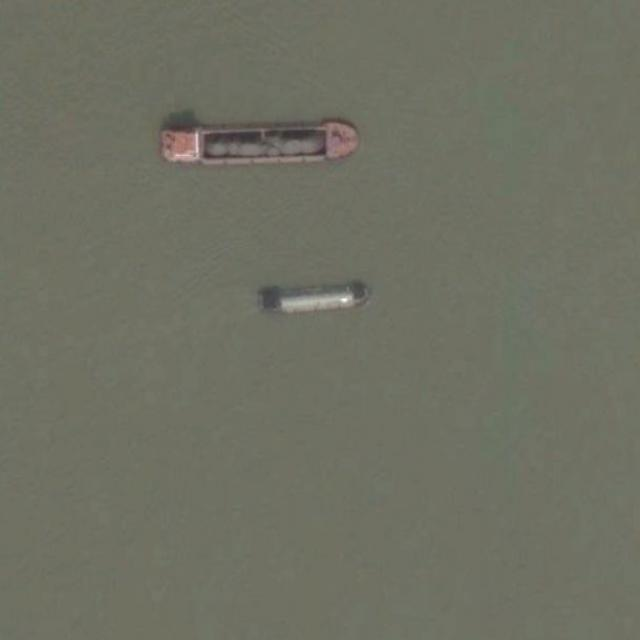ship: (155, 116, 361, 171), (251, 277, 371, 318)
